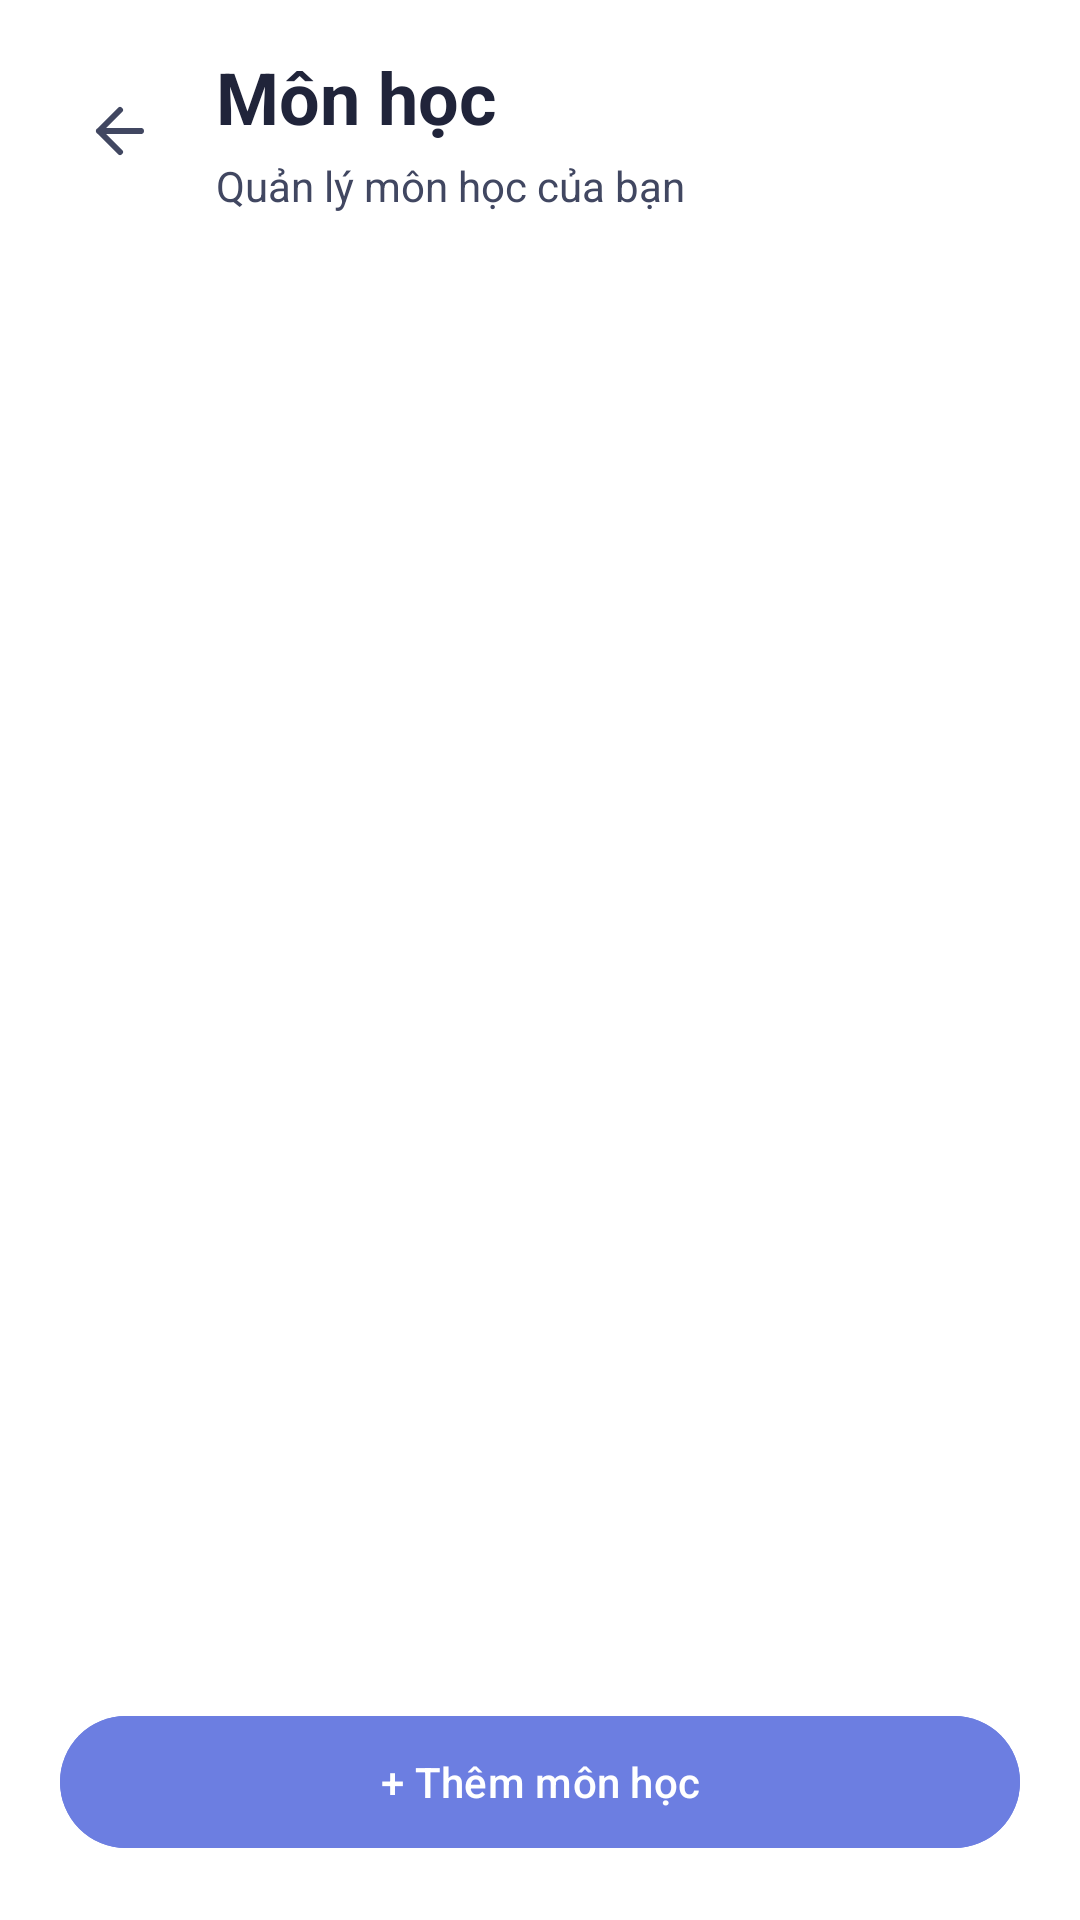

Point at icon controls on the screen. Image size 1080px x 1920px, points as (x=x, y=y).
Quay lại: (x=120, y=131)
